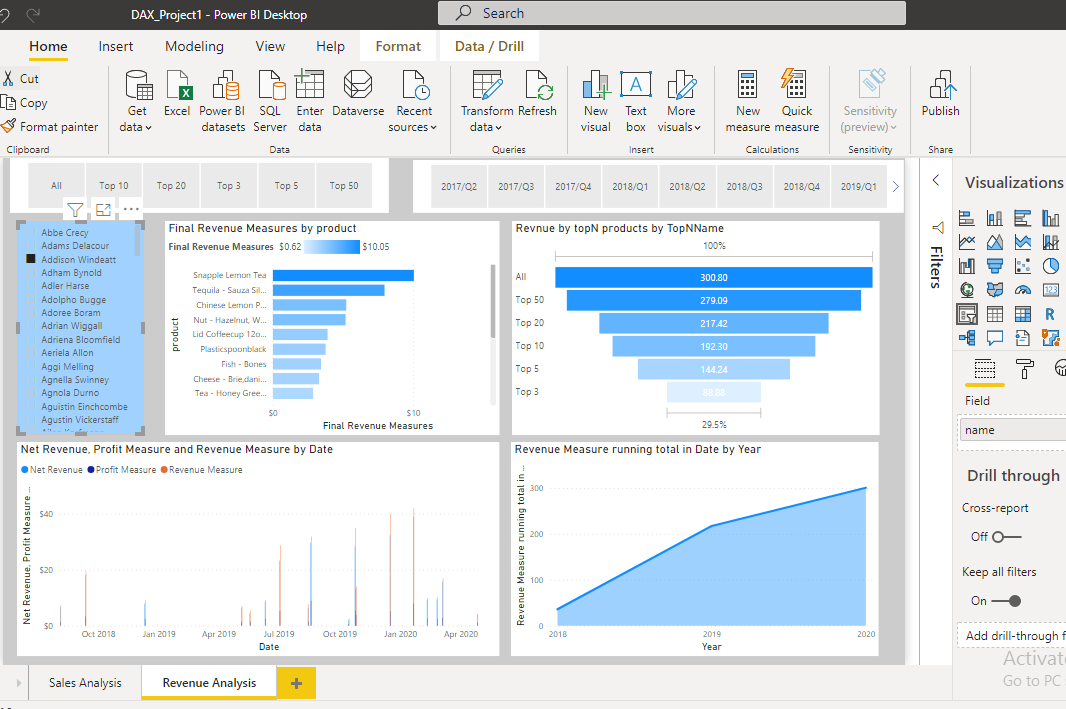

This screenshot's page, from the dashboard's own definition file:
{"tool":"powerbi","page":{"name":"Revenue Analysis","canvas":[1280,720],"ordinal":1},"visuals":[{"type":"slicer","fields":{"Values":["TopNFilter.TopNName"]},"box":[10.1,0,538.2,77.9],"z":0},{"type":"slicer","fields":{"Values":["DateTable.YearQuarter"]},"box":[548.3,2.9,731.5,75],"z":1},{"type":"slicer","fields":{"Values":["customer.name"]},"box":[20.2,89,179.7,304],"z":2},{"type":"clusteredBarChart","fields":{"Category":["products.product"],"Y":["Key Measures Table.Final Revenue Measures"]},"box":[230.1,89,475.4,304],"z":3},{"type":"funnel","fields":{"Y":["Key Measures Table.Revnue by topN products"],"Category":["TopNFilter.TopNName"]},"box":[722.3,89,522.4,304],"z":4},{"type":"clusteredColumnChart","fields":{"Category":["DateTable.Date"],"Y":["Key Measures Table.Net Revenue","Key Measures Table.Profit Measure","Key Measures Table.Revenue Measure"]},"box":[20.2,403.1,685.4,304],"z":5},{"type":"areaChart","fields":{"Y":["Key Measures Table.Revenue Measure running total in Date"],"Category":["DateTable.Date.Variation.Date Hierarchy.Year","DateTable.Date.Variation.Date Hierarchy.Quarter","DateTable.Date.Variation.Date Hierarchy.Month","DateTable.Date.Variation.Date Hierarchy.Day"]},"box":[722,403,522,304],"z":6}]}

Visuals, with their boxes on the page's 1280x720 design canvas (x1, y1, x2, y2). These are canvas units, not pixel positions in the 1066x709 screenshot, which may show the page scaled, cropped or inside an application window:
slicer - TopNFilter.TopNName: (x1=10, y1=0, x2=548, y2=78)
slicer - DateTable.YearQuarter: (x1=548, y1=3, x2=1280, y2=78)
slicer - customer.name: (x1=20, y1=89, x2=200, y2=393)
clusteredBarChart - products.product x Key Measures Table.Final Revenue Measures: (x1=230, y1=89, x2=706, y2=393)
funnel - Key Measures Table.Revnue by topN products x TopNFilter.TopNName: (x1=722, y1=89, x2=1245, y2=393)
clusteredColumnChart - DateTable.Date x Key Measures Table.Net Revenue: (x1=20, y1=403, x2=706, y2=707)
areaChart - Key Measures Table.Revenue Measure running total in Date x DateTable.Date.Variation.Date Hierarchy.Year: (x1=722, y1=403, x2=1244, y2=707)
